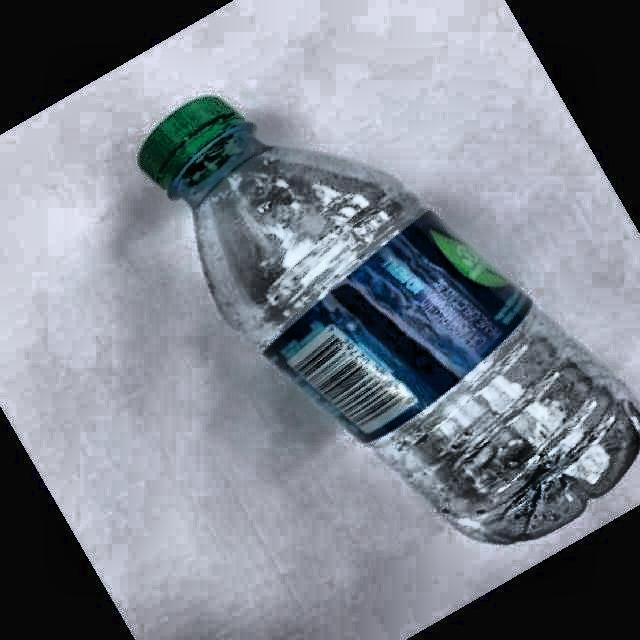plastic: (139, 96, 640, 543)
